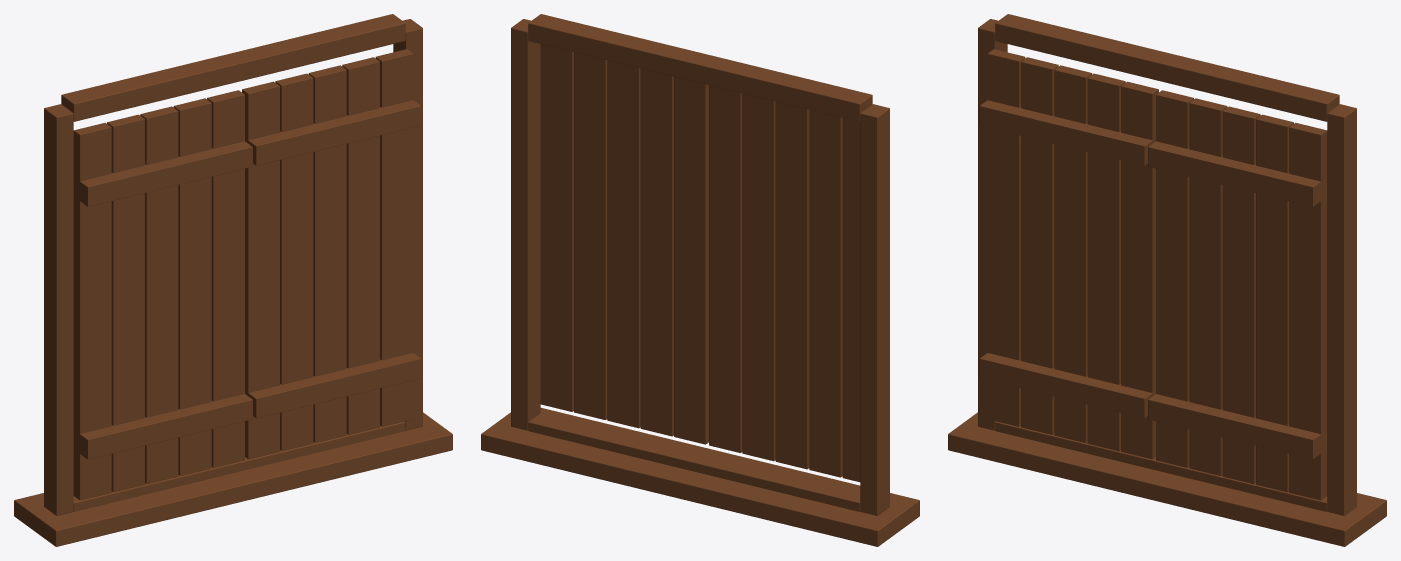
Rendered from kampung-timber-window.glb.
3 renders of one model, left to right at view 1: azimuth 30°, elevation 25°; view 2: azimuth 150°, elevation 25°; view 3: azimuth 330°, elevation 25°, orthographic.
Parts seen in each view (by area): view 1: Sill, Plank, Outer_Frame_Stile, Plank.009, Plank.008, Plank.003, Plank.007, Plank.002, Plank.005, Plank.001, Plank.004, Plank.006 (+7 smaller); view 2: Sill, Plank.002, Plank.009, Plank.007, Plank.008, Plank.001, Plank.005, Plank.003, Plank.004, Plank.006, Outer_Frame_Stile, Outer_Frame_Stile.001 (+3 smaller); view 3: Sill, Plank.005, Outer_Frame_Stile.001, Plank.004, Plank.003, Plank.002, Plank.008, Plank, Plank.007, Plank.006, Plank.009, Plank.001 (+7 smaller).
Boxes of the visible parts, left/top/right/bottom form: Sill: left=14, top=412, right=452, bottom=546; Plank: left=73, top=122, right=111, bottom=500; Outer_Frame_Stile: left=44, top=104, right=73, bottom=515; Plank.009: left=242, top=81, right=279, bottom=459; Plank.008: left=275, top=73, right=313, bottom=450; Plank.003: left=173, top=98, right=211, bottom=475; Plank.007: left=308, top=65, right=346, bottom=442; Plank.002: left=140, top=106, right=178, bottom=483; Plank.005: left=375, top=49, right=413, bottom=426; Plank.001: left=107, top=114, right=144, bottom=492; Plank.004: left=207, top=90, right=244, bottom=467; Plank.006: left=342, top=57, right=379, bottom=434; Sill: left=481, top=407, right=919, bottom=546; Plank.002: left=775, top=101, right=809, bottom=469; Plank.009: left=674, top=76, right=708, bottom=444; Plank.007: left=607, top=60, right=640, bottom=428; Plank.008: left=640, top=68, right=673, bottom=436; Plank.001: left=809, top=109, right=842, bottom=477; Plank.005: left=540, top=44, right=573, bottom=411; Plank.003: left=742, top=93, right=775, bottom=461; Plank.004: left=709, top=85, right=742, bottom=452; Plank.006: left=574, top=52, right=607, bottom=419; Outer_Frame_Stile: left=860, top=104, right=889, bottom=515; Outer_Frame_Stile.001: left=511, top=19, right=540, bottom=430; Sill: left=948, top=412, right=1386, bottom=546; Plank.005: left=1289, top=122, right=1327, bottom=500; Outer_Frame_Stile.001: left=1327, top=104, right=1356, bottom=515; Plank.004: left=1121, top=81, right=1158, bottom=459; Plank.003: left=1087, top=73, right=1125, bottom=450; Plank.002: left=1054, top=65, right=1092, bottom=442; Plank.008: left=1189, top=98, right=1227, bottom=475; Plank: left=987, top=49, right=1025, bottom=426; Plank.007: left=1222, top=106, right=1260, bottom=483; Plank.006: left=1256, top=114, right=1293, bottom=492; Plank.009: left=1156, top=90, right=1193, bottom=467; Plank.001: left=1021, top=57, right=1058, bottom=434.
Size of the model in its own units: 1.25 by 1.28 by 0.23.
